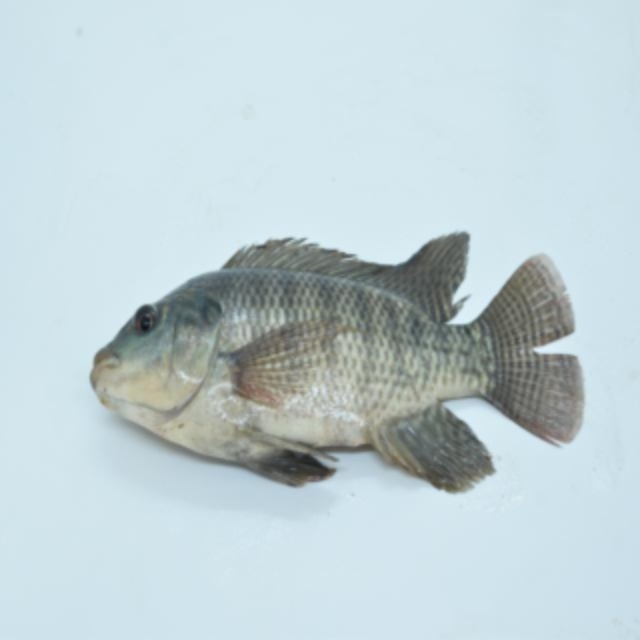Healthy Fish: (87, 230, 583, 494)
